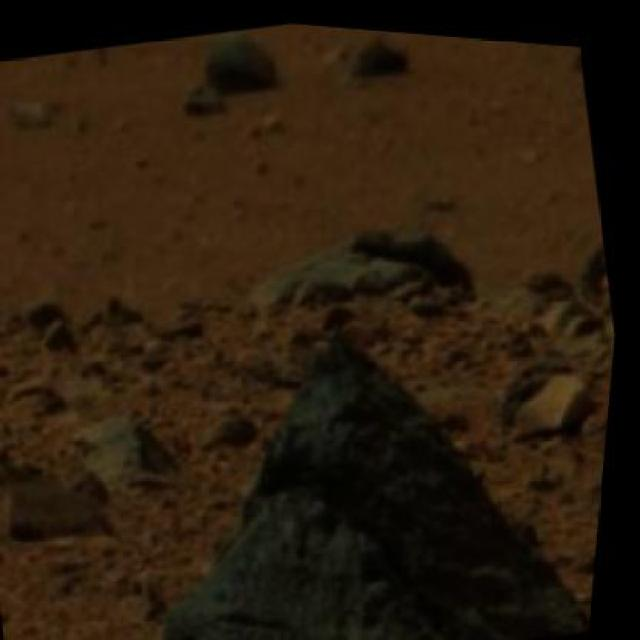rock: (104, 258, 622, 638), (222, 189, 482, 333), (0, 449, 134, 557), (504, 353, 613, 438), (198, 19, 288, 96), (343, 22, 419, 82)
